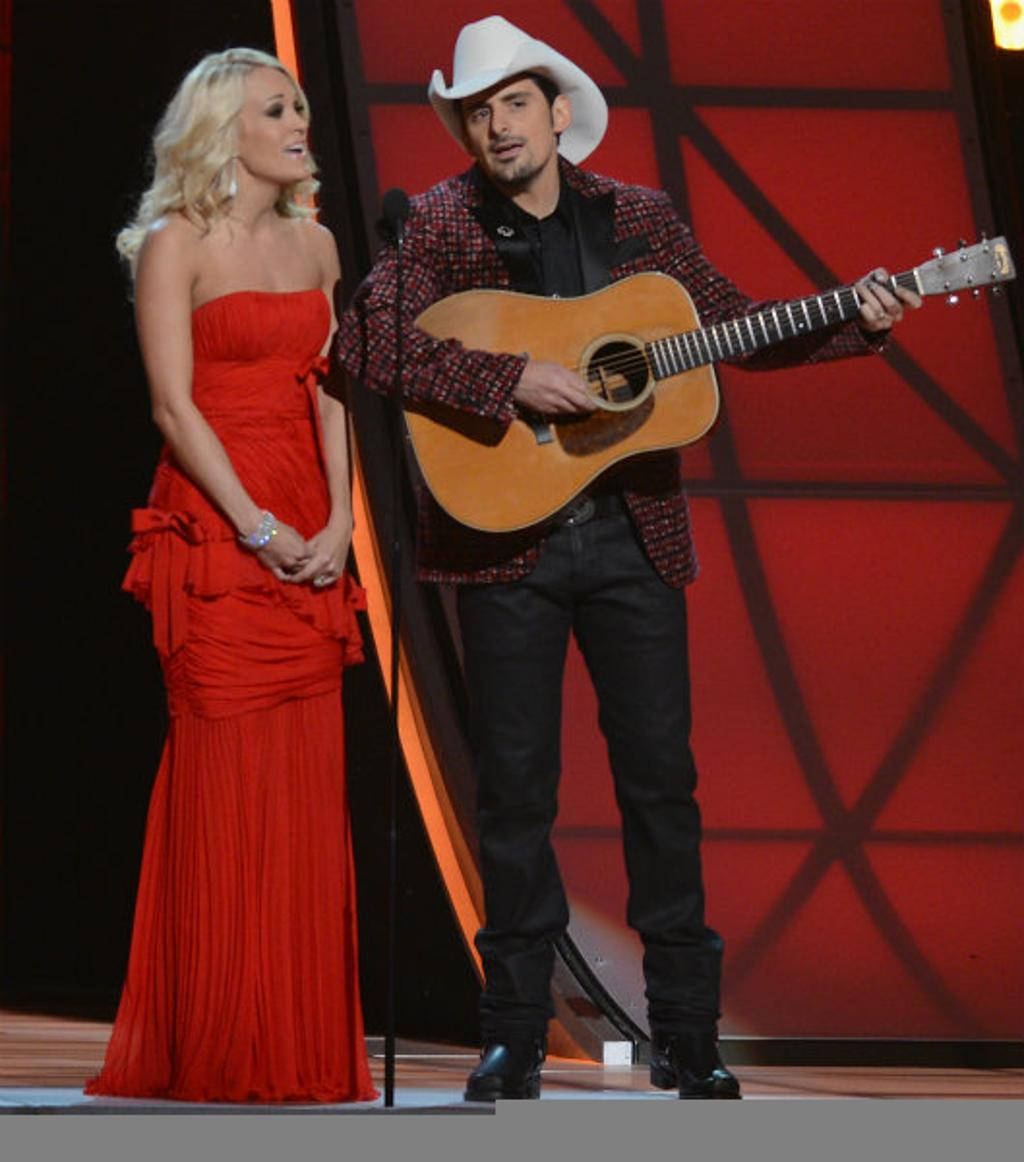face: (463, 61, 552, 179), (236, 66, 318, 184)
